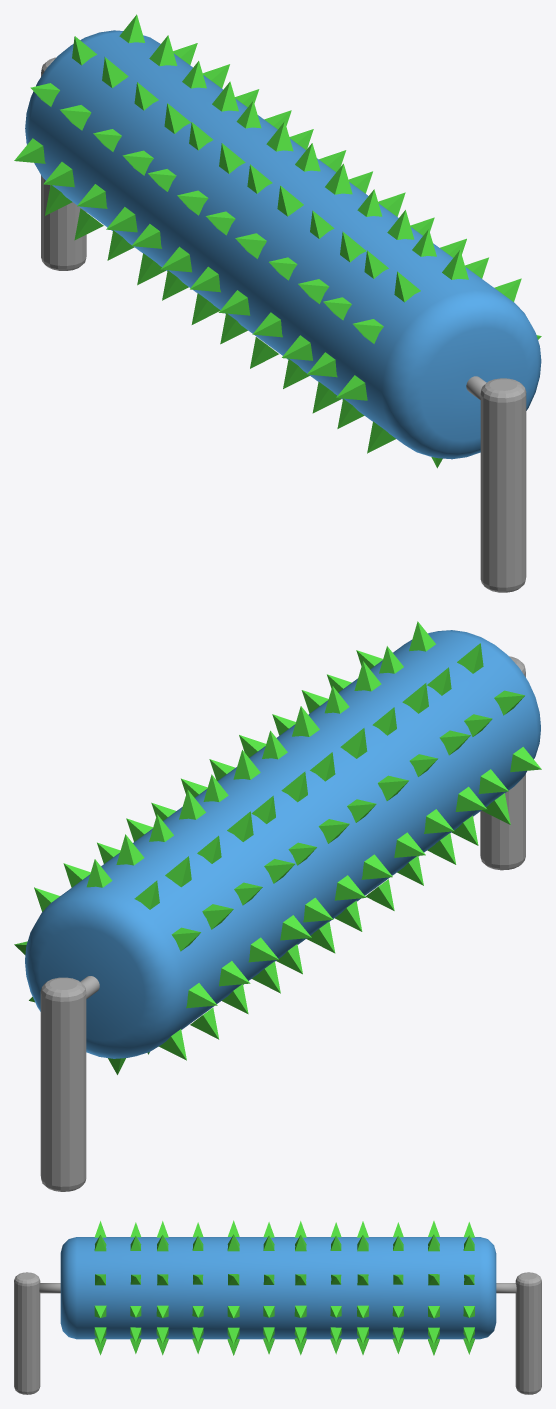
Rendered from obstacle17.fbx.
The picture shows the model from 3 angles, top to bottom: view 1: azimuth 30°, elevation 25°; view 2: azimuth 150°, elevation 25°; view 3: azimuth 270°, elevation 25°; orthographic projection. The views are drawn at different scales.
Parts seen in each view (by area): view 1: obstacle17.2, obstacle17.1; view 2: obstacle17.2, obstacle17.1; view 3: obstacle17.2, obstacle17.1.
Part boxes in pixels (x1,y1,x2,y2): obstacle17.2: (14,14,541,468); obstacle17.1: (41,57,526,592); obstacle17.2: (14,621,541,1074); obstacle17.1: (40,656,525,1191); obstacle17.2: (60,1220,496,1355); obstacle17.1: (14,1272,541,1394).
Bounding box in the file's own units: 33.63 × 44.16 × 130.
